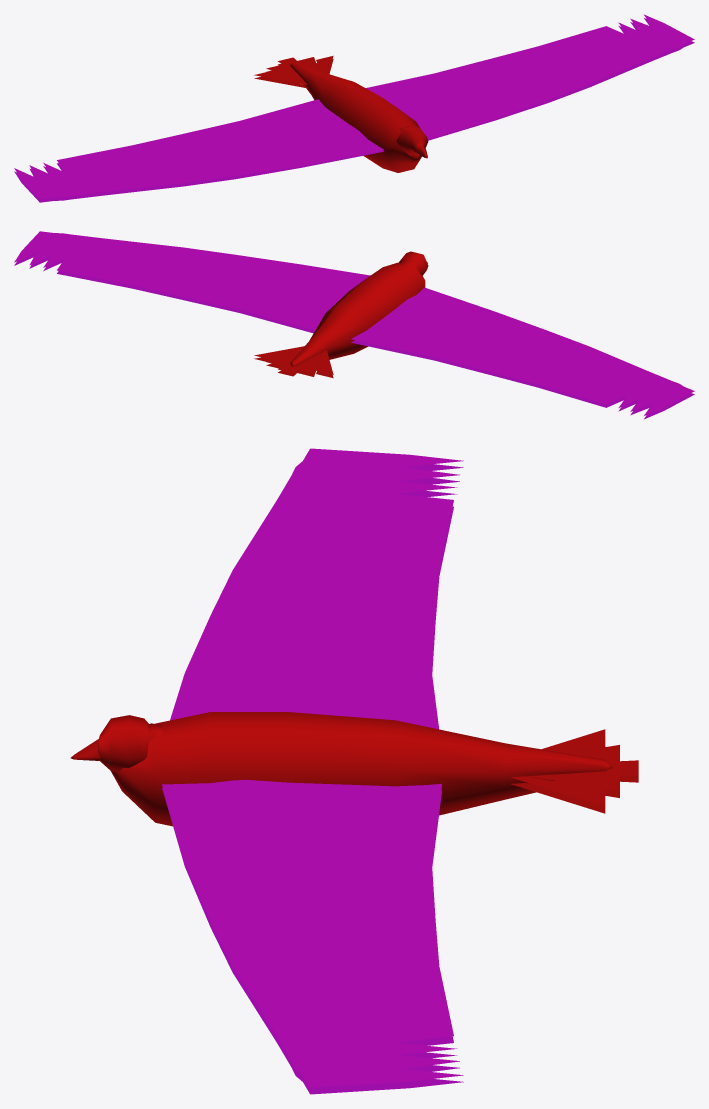
The model's file is osprey.glb.
3 renders of one model, top to bottom at view 1: azimuth 30°, elevation 25°; view 2: azimuth 150°, elevation 25°; view 3: azimuth 270°, elevation 25°, orthographic. The views are drawn at different scales.
Parts seen in each view (by area): view 1: bird; view 2: bird; view 3: bird.
Boxes of the visible parts, box(x1,y1,x2,y2) form: bird: box(14, 14, 694, 202); bird: box(14, 231, 694, 419); bird: box(70, 448, 638, 1094).
Bounding box in the file's own units: 1.6 × 0.125 × 0.6016.
